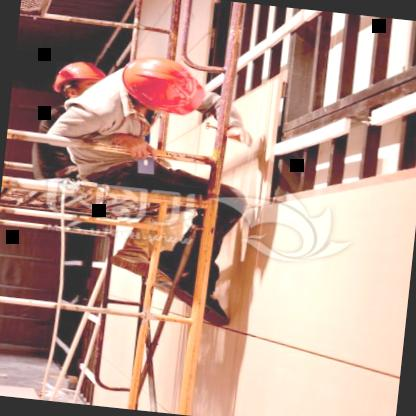helmet: (109, 48, 209, 126), (45, 52, 117, 110)
